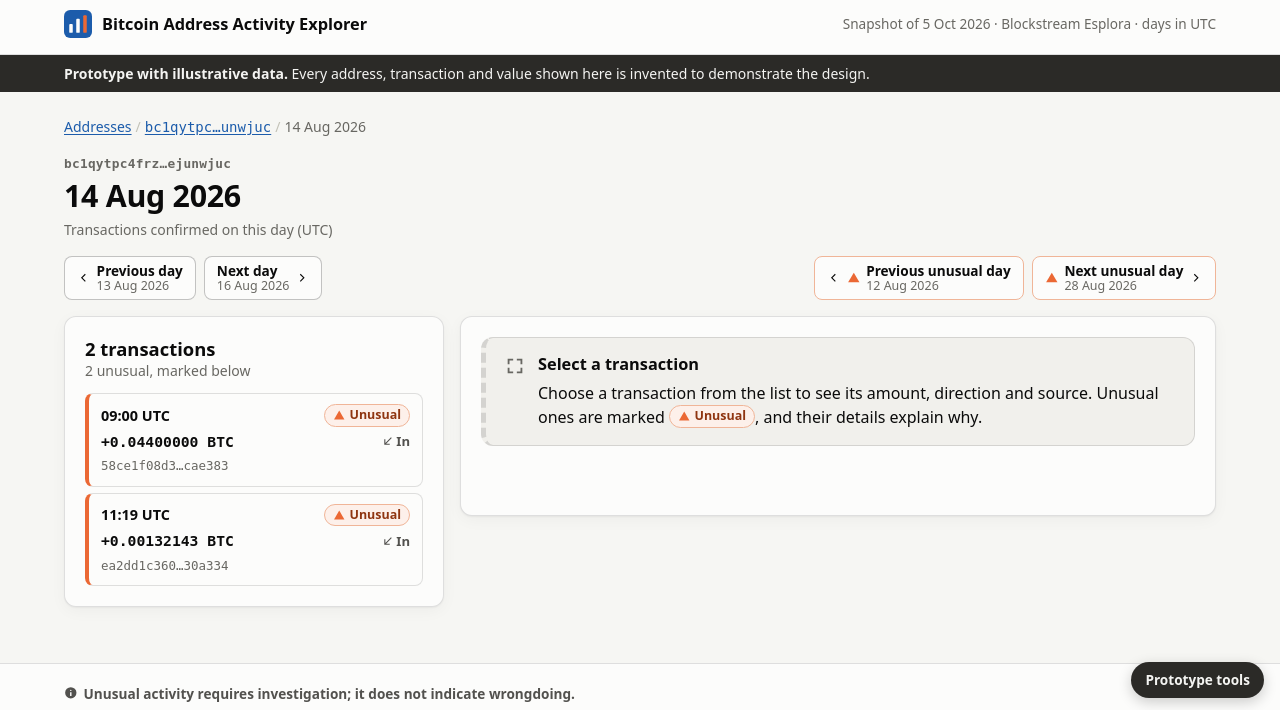
it: usability walkthrough tasks › 3. locate the unusual transaction and see why it is flagged (AC-03)
expect the element with test id "state-empty-detail" is shown: met, box [481,337,1195,446]
Step 1. Click the link "09:00 UTC Unusual +0.04400000 BTC In 58ce1f08d3…cae383" → coordinates (135, 415), box [85,393,423,487]
(page scrolled)
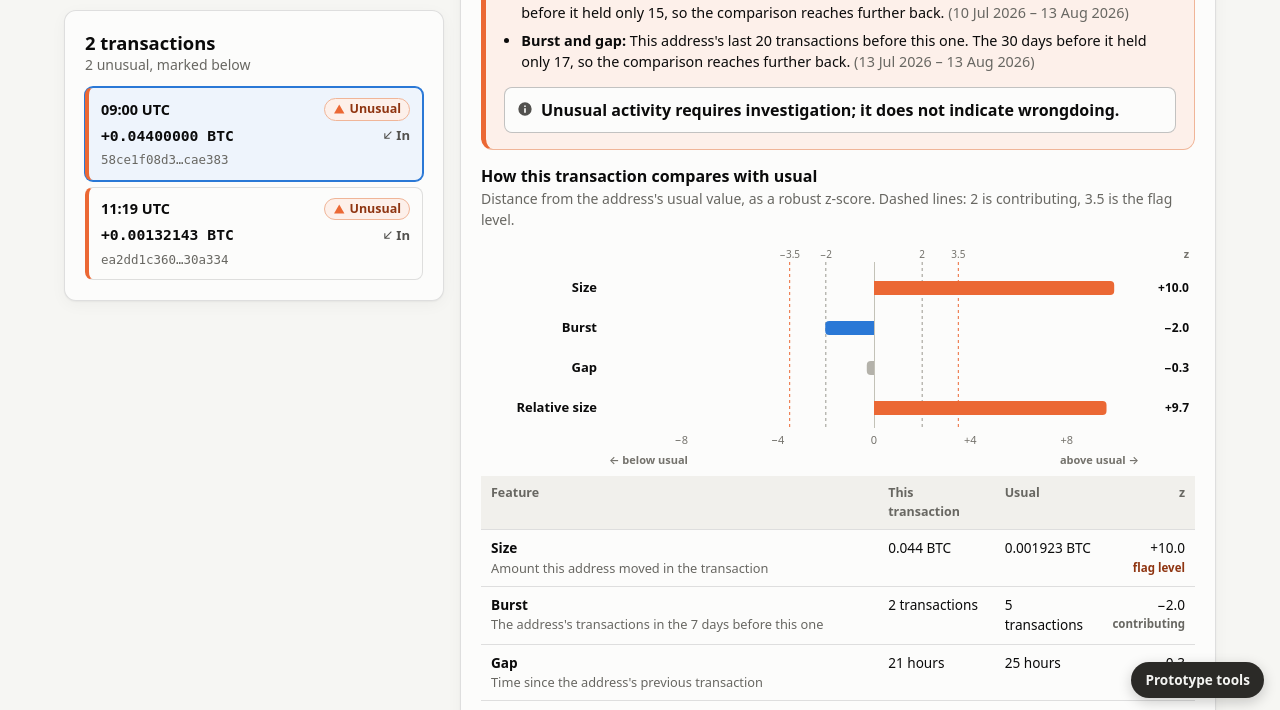
expect the element with test id "limitation-line" reads "Unusual activity requires investigation; it does not indicate wrongdoing.": met, box [541,99,1119,121]
expect the picture named "Distance from usual for each feature" is shown: met, box [481,242,1195,468]
